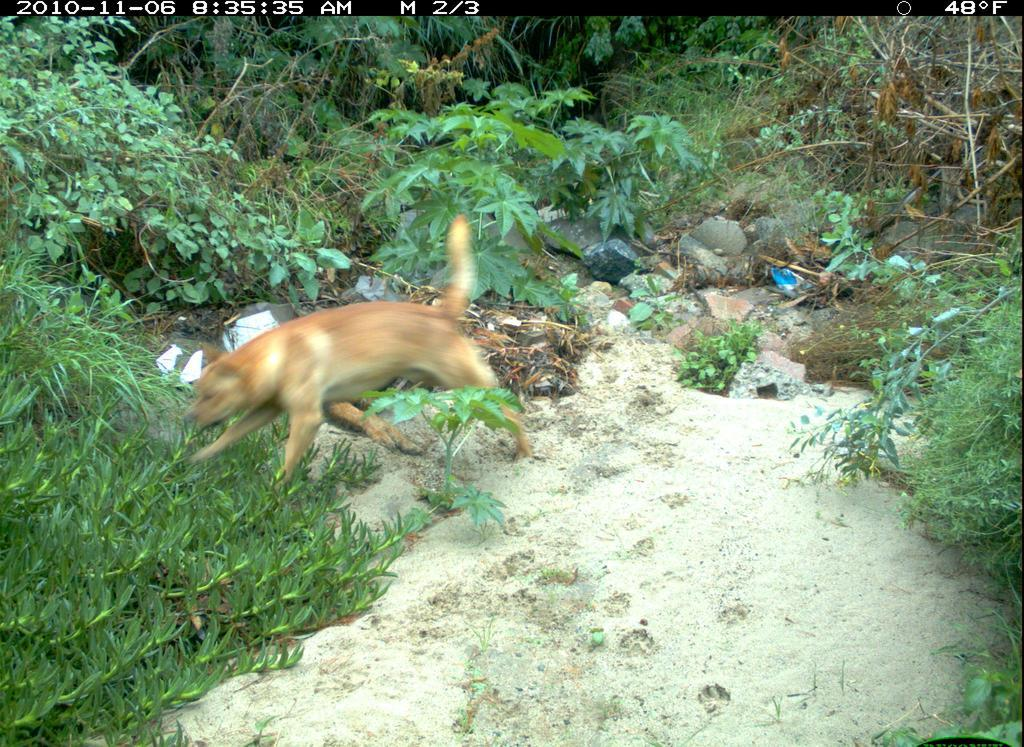dog: (178, 214, 541, 496)
